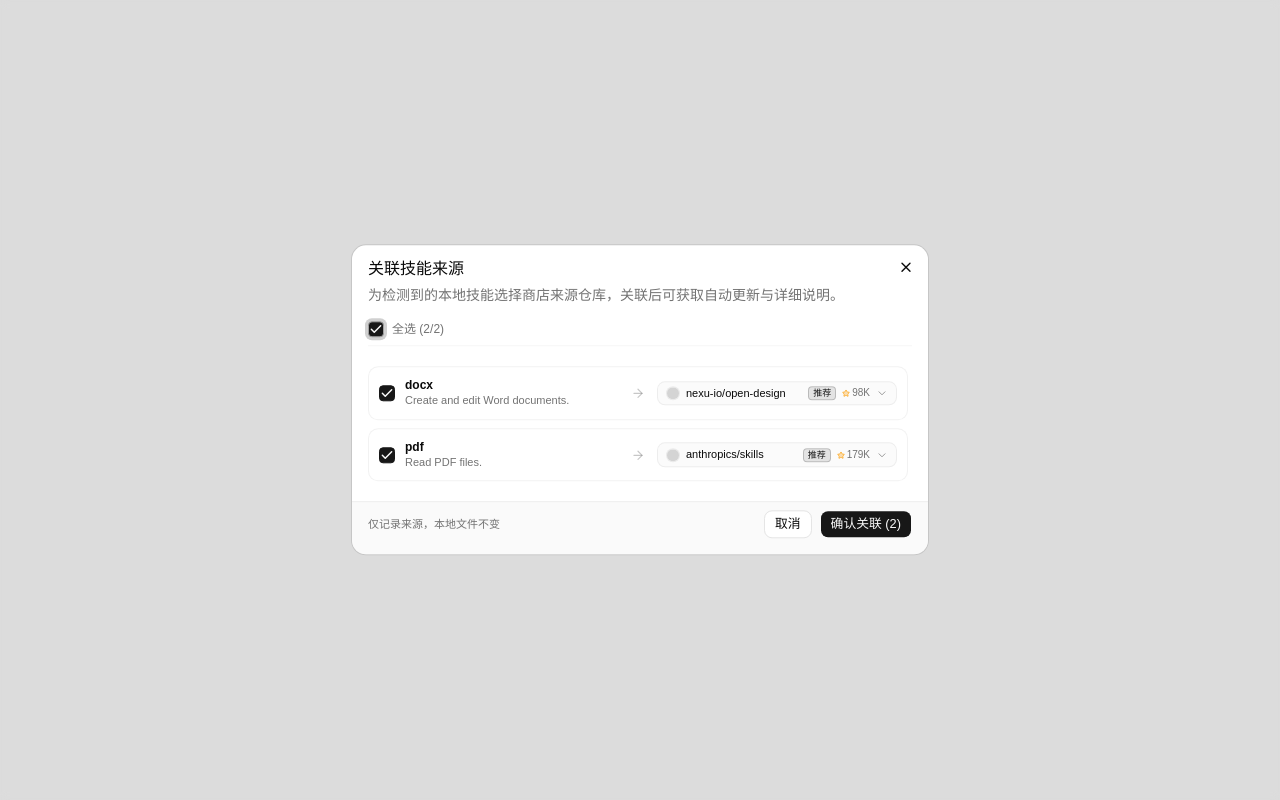
Test: SourceLinkBatchDialog › updates count when unchecking an item
// Uncheck docx
Click the checkbox named "docx". click: point(387, 393)
box: [379, 385, 395, 401]
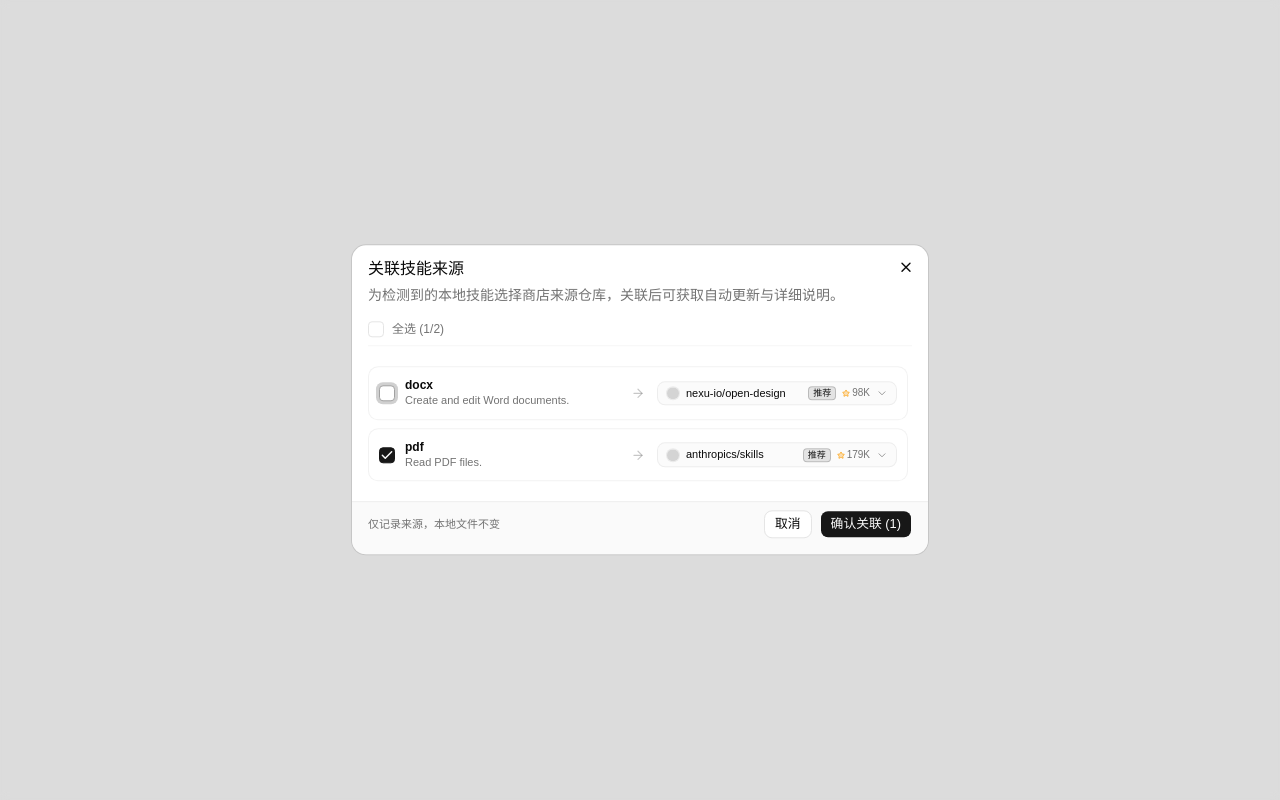
Now the text "全选 (1/2)" is shown, box [392, 321, 444, 337]
Now the button "确认关联 (1)" is shown, box [820, 511, 912, 539]
